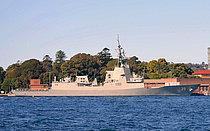MIL_Ship: (7, 61, 202, 96)
